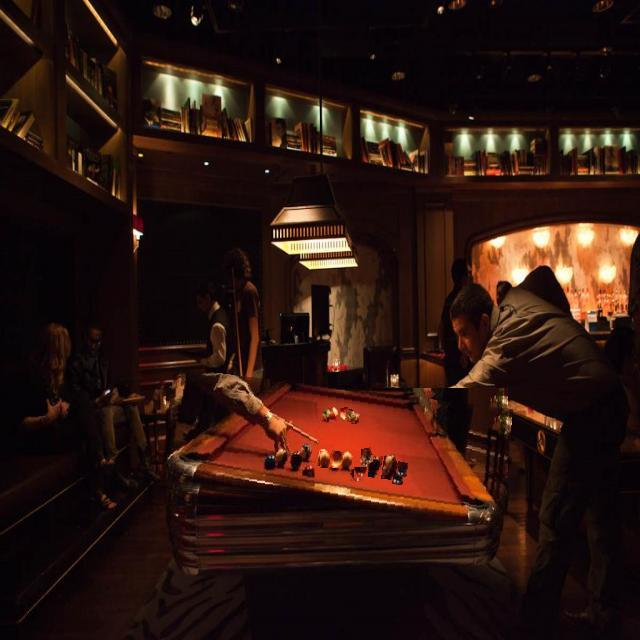Ball: (367, 455, 383, 473), (330, 451, 344, 468), (385, 455, 397, 473), (395, 462, 408, 477), (320, 451, 330, 468), (354, 468, 368, 480), (362, 448, 373, 463), (346, 411, 356, 422), (340, 408, 349, 420)
Billiard table: (163, 378, 511, 516)
